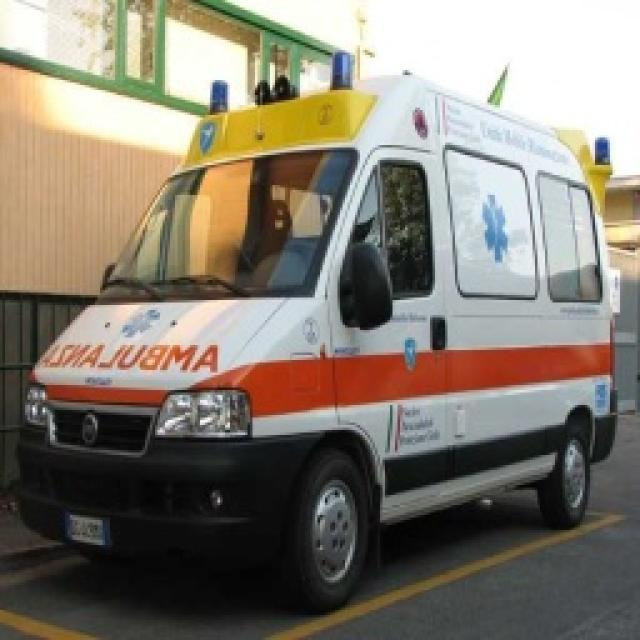emergency-vehicle: (19, 62, 622, 601)
